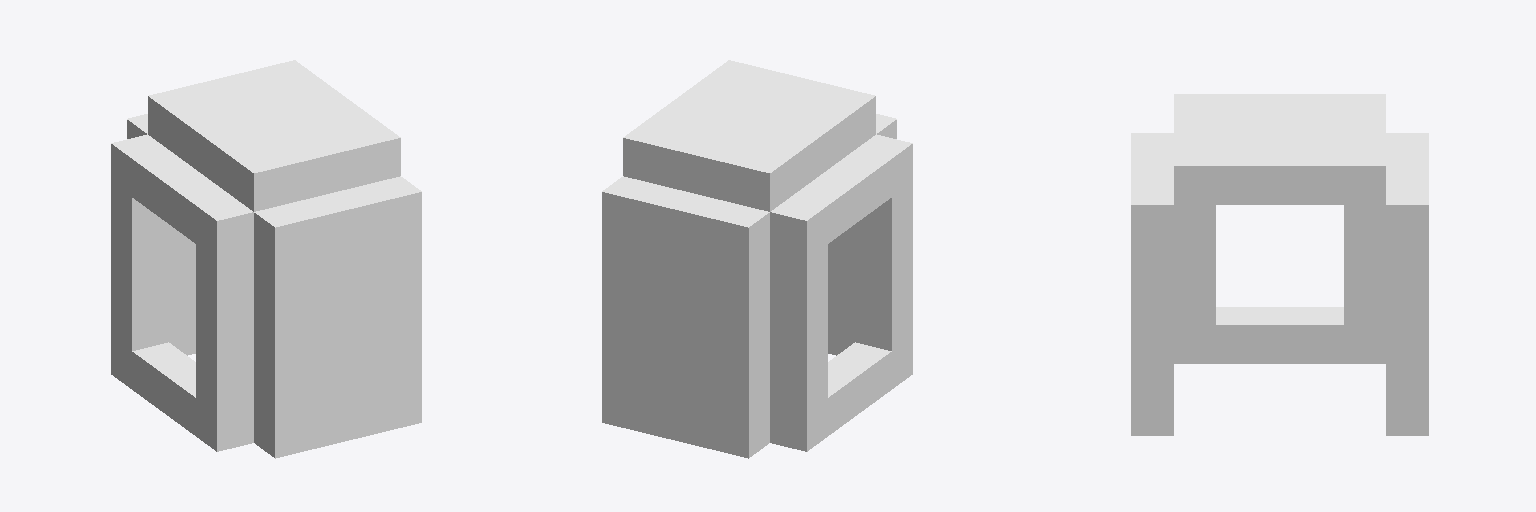
The model's file is HadaNivel5-2.obj.
The picture shows the model from 3 angles: view 1: azimuth 30°, elevation 25°; view 2: azimuth 150°, elevation 25°; view 3: azimuth 270°, elevation 25°; orthographic projection.
Visible parts, largest first — view 1: object 1; view 2: object 1; view 3: object 1.
Boxes of the visible parts, box(x1,y1,x2,y2) form: object 1: box(111, 60, 421, 458); object 1: box(602, 60, 912, 458); object 1: box(1131, 94, 1428, 435).
Size of the model in its own units: 0.5 by 0.7 by 0.7.